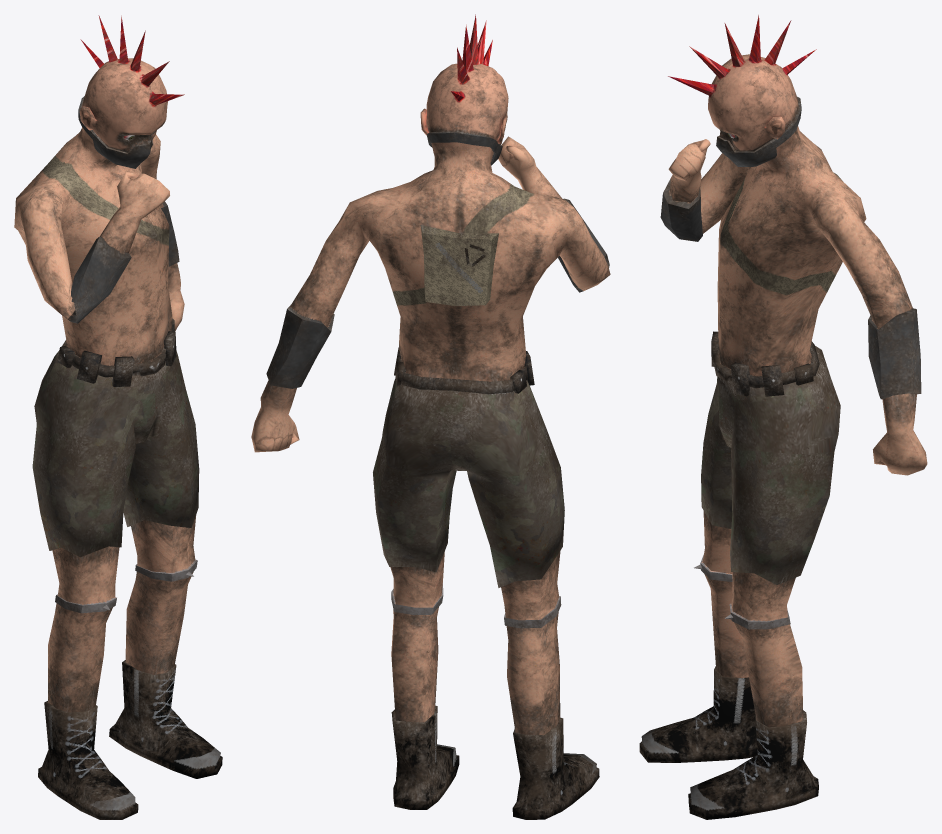
Rendered from Anim_perder_1_npc2.0032.obj.
3 renders of one model, left to right at view 1: azimuth 30°, elevation 25°; view 2: azimuth 150°, elevation 25°; view 3: azimuth 270°, elevation 25°, orthographic. The views are drawn at different scales.
Visible parts, largest first — view 1: polySurface1; view 2: polySurface1; view 3: polySurface1.
Part boxes in pixels (x1,y1,x2,y2): polySurface1: [14, 15, 222, 819]; polySurface1: [251, 14, 610, 819]; polySurface1: [639, 15, 927, 819].
Size of the model in its own units: 3.3 by 10.02 by 3.4.
